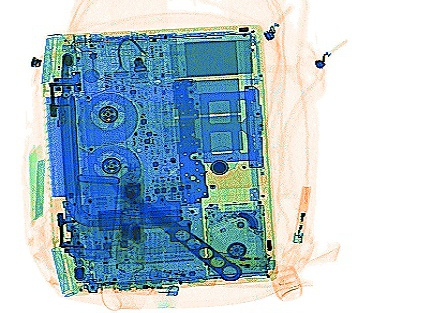knife: (108, 176, 243, 282)
lighter: (290, 184, 311, 243), (155, 266, 218, 285), (216, 254, 276, 270), (121, 279, 178, 295)
zippooil: (69, 173, 118, 261)
